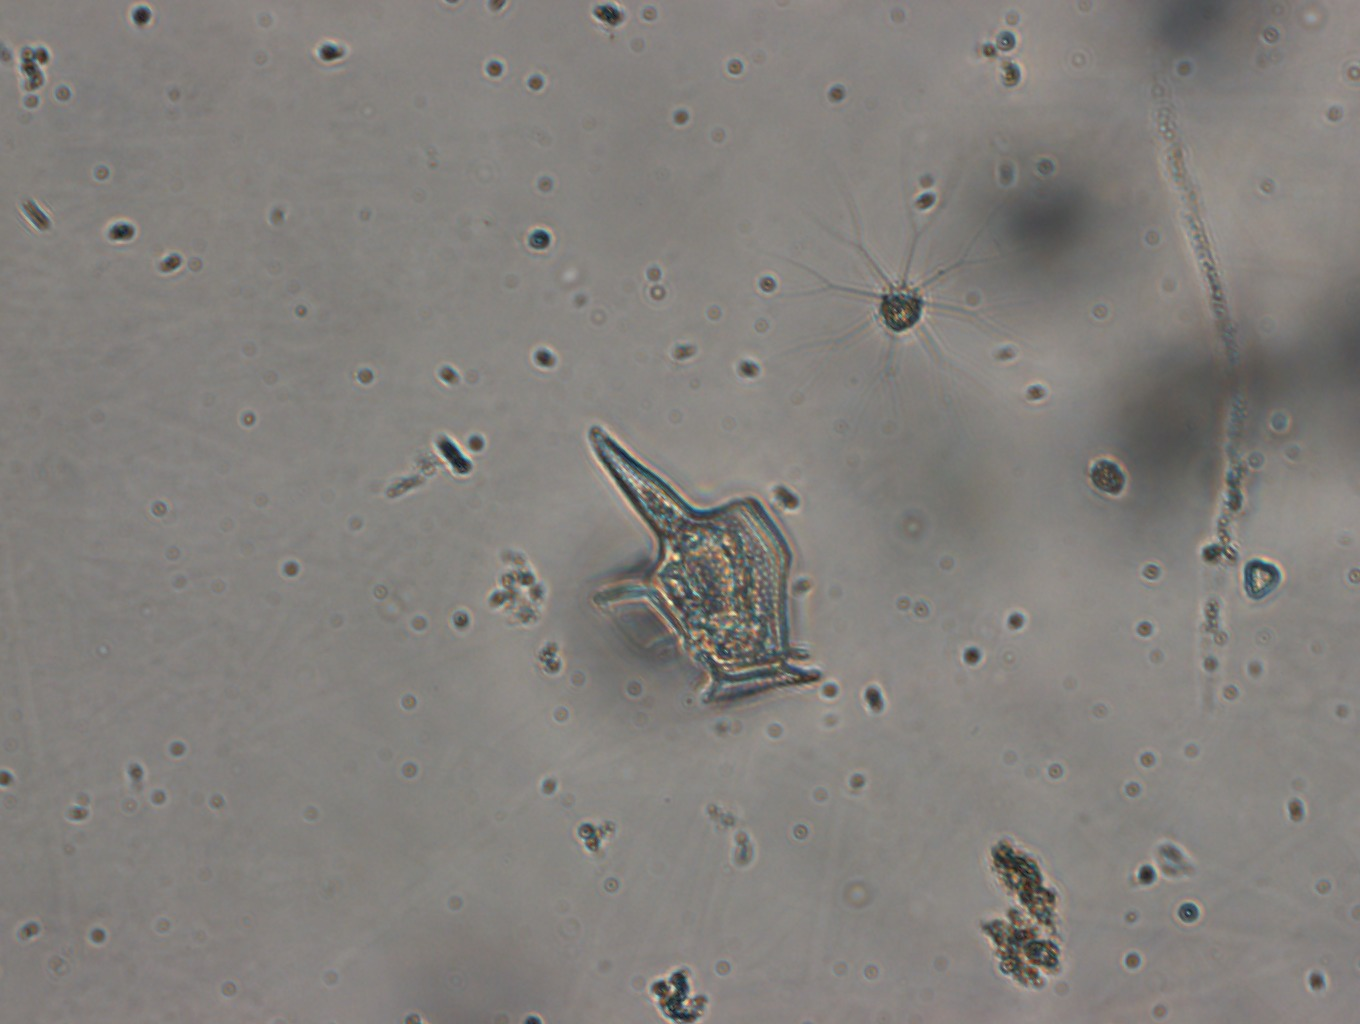bacteriastrum: (760, 163, 1023, 443)
dinophysis caudata: (582, 419, 826, 709)
